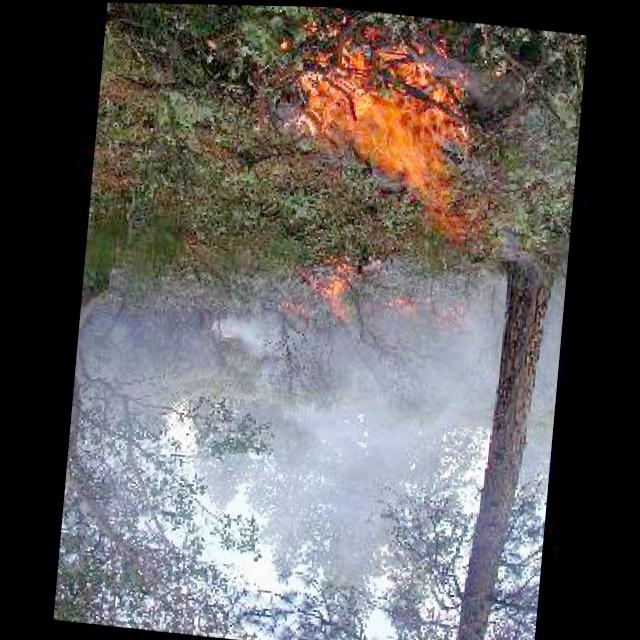Fire: (276, 21, 494, 258), (276, 242, 379, 326)
Smoke: (228, 258, 503, 592)
